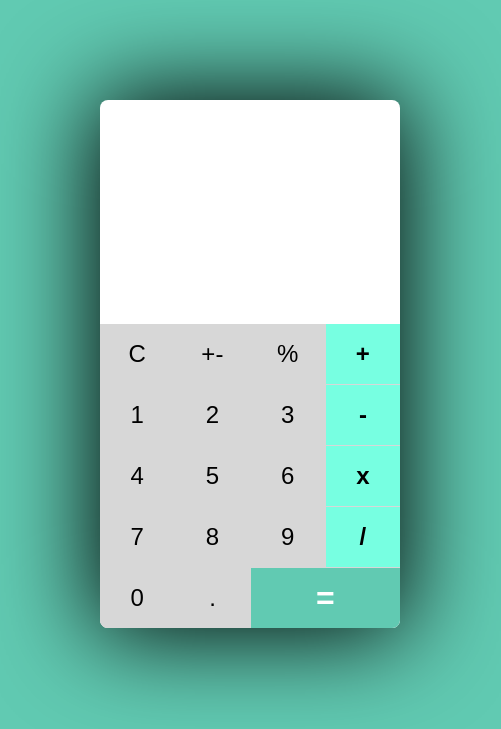
Test: Calculator › Should let sum two numbers
Click the button "1": (137, 415) x1=100 y1=385 x2=174 y2=445
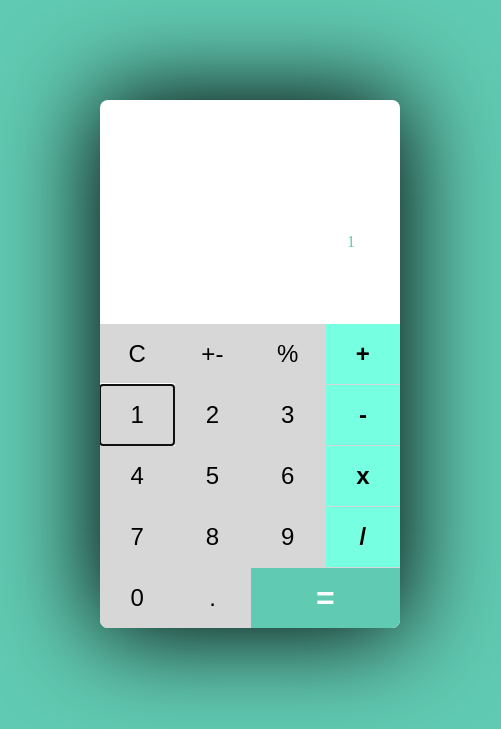
Click the button "+": (363, 354) x1=326 y1=324 x2=400 y2=384
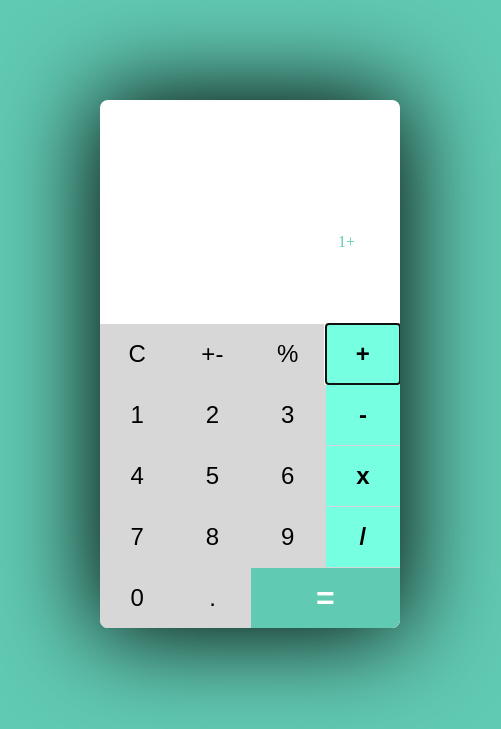
Click the button "2": (212, 415) x1=175 y1=385 x2=250 y2=445
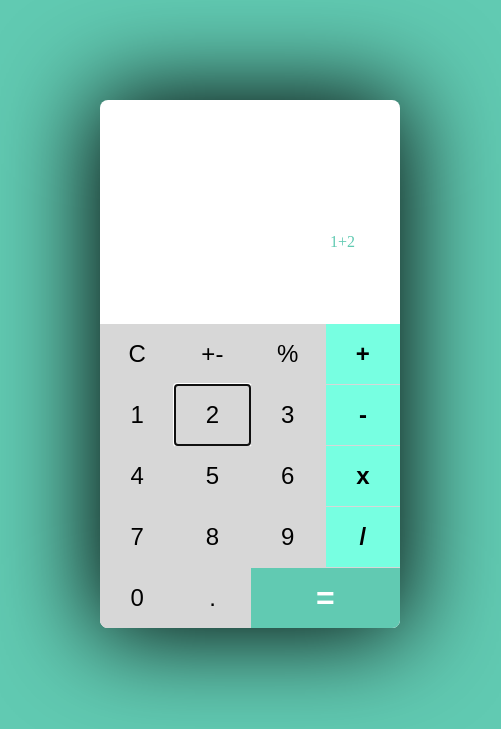
Click the button "=": (325, 598) x1=251 y1=568 x2=400 y2=628
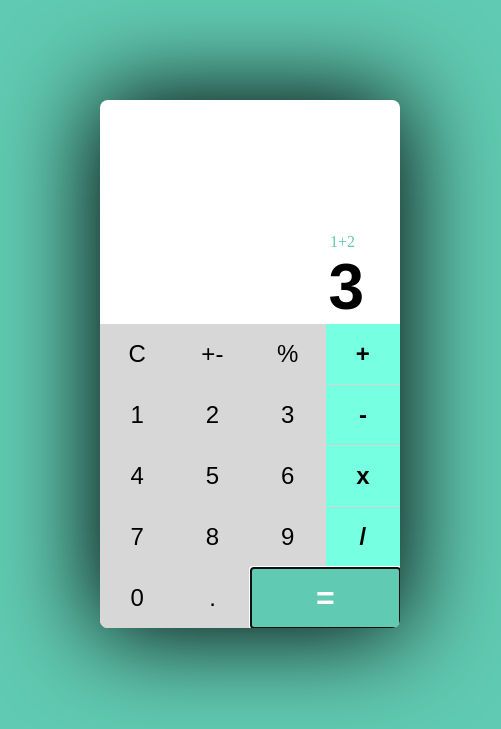
Result: the field showing "3" is shown at x1=130 y1=250 x2=370 y2=324
